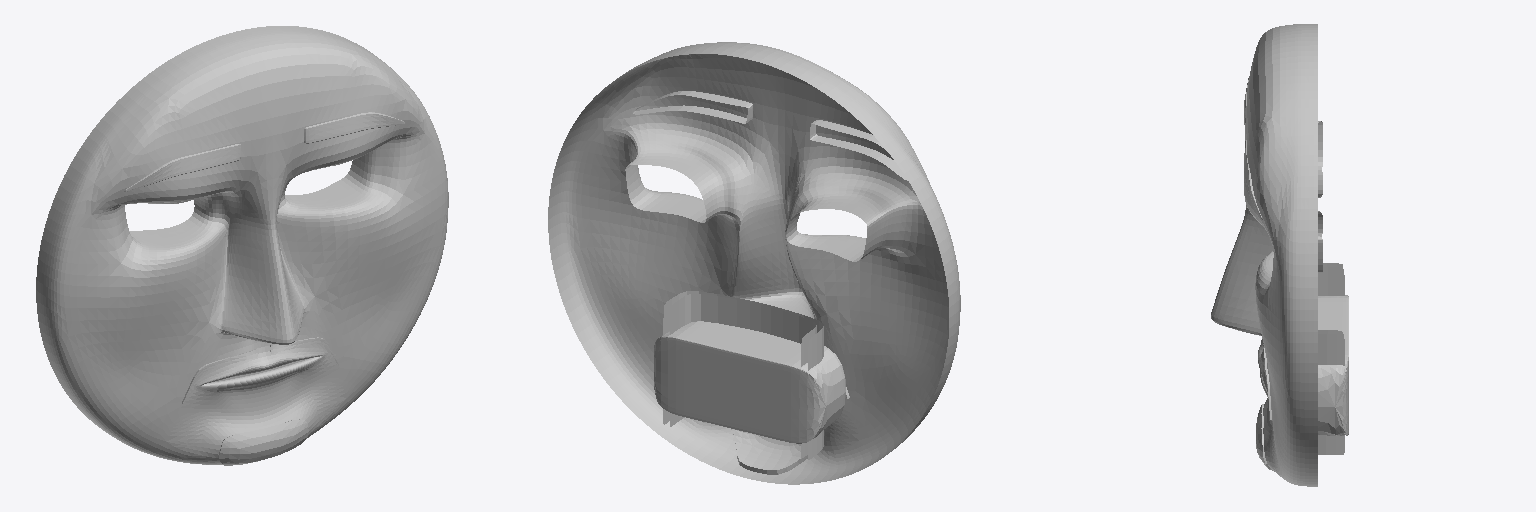
File: Default Expressions.obj
3 renders of one model, left to right at view 1: azimuth 30°, elevation 25°; view 2: azimuth 150°, elevation 25°; view 3: azimuth 270°, elevation 25°, orthographic.
Parts seen in each view (by area): view 1: Circle.008_Circle.004; view 2: Circle.008_Circle.004; view 3: Circle.008_Circle.004.
Part boxes in pixels (x1,y1,x2,y2): Circle.008_Circle.004: (36,26,448,465); Circle.008_Circle.004: (548,42,960,484); Circle.008_Circle.004: (1211,24,1348,486).
Size of the model in its own units: 50.64 by 50.76 by 15.12.